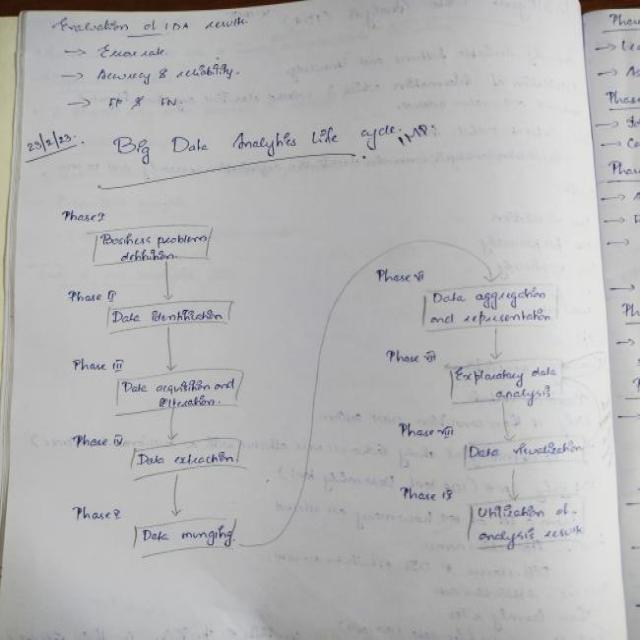Figure Detection - v3 Dataset Version2: (46, 196, 613, 596)
